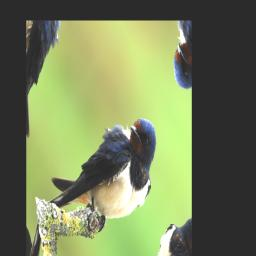Swallow: (42, 61, 171, 256)
